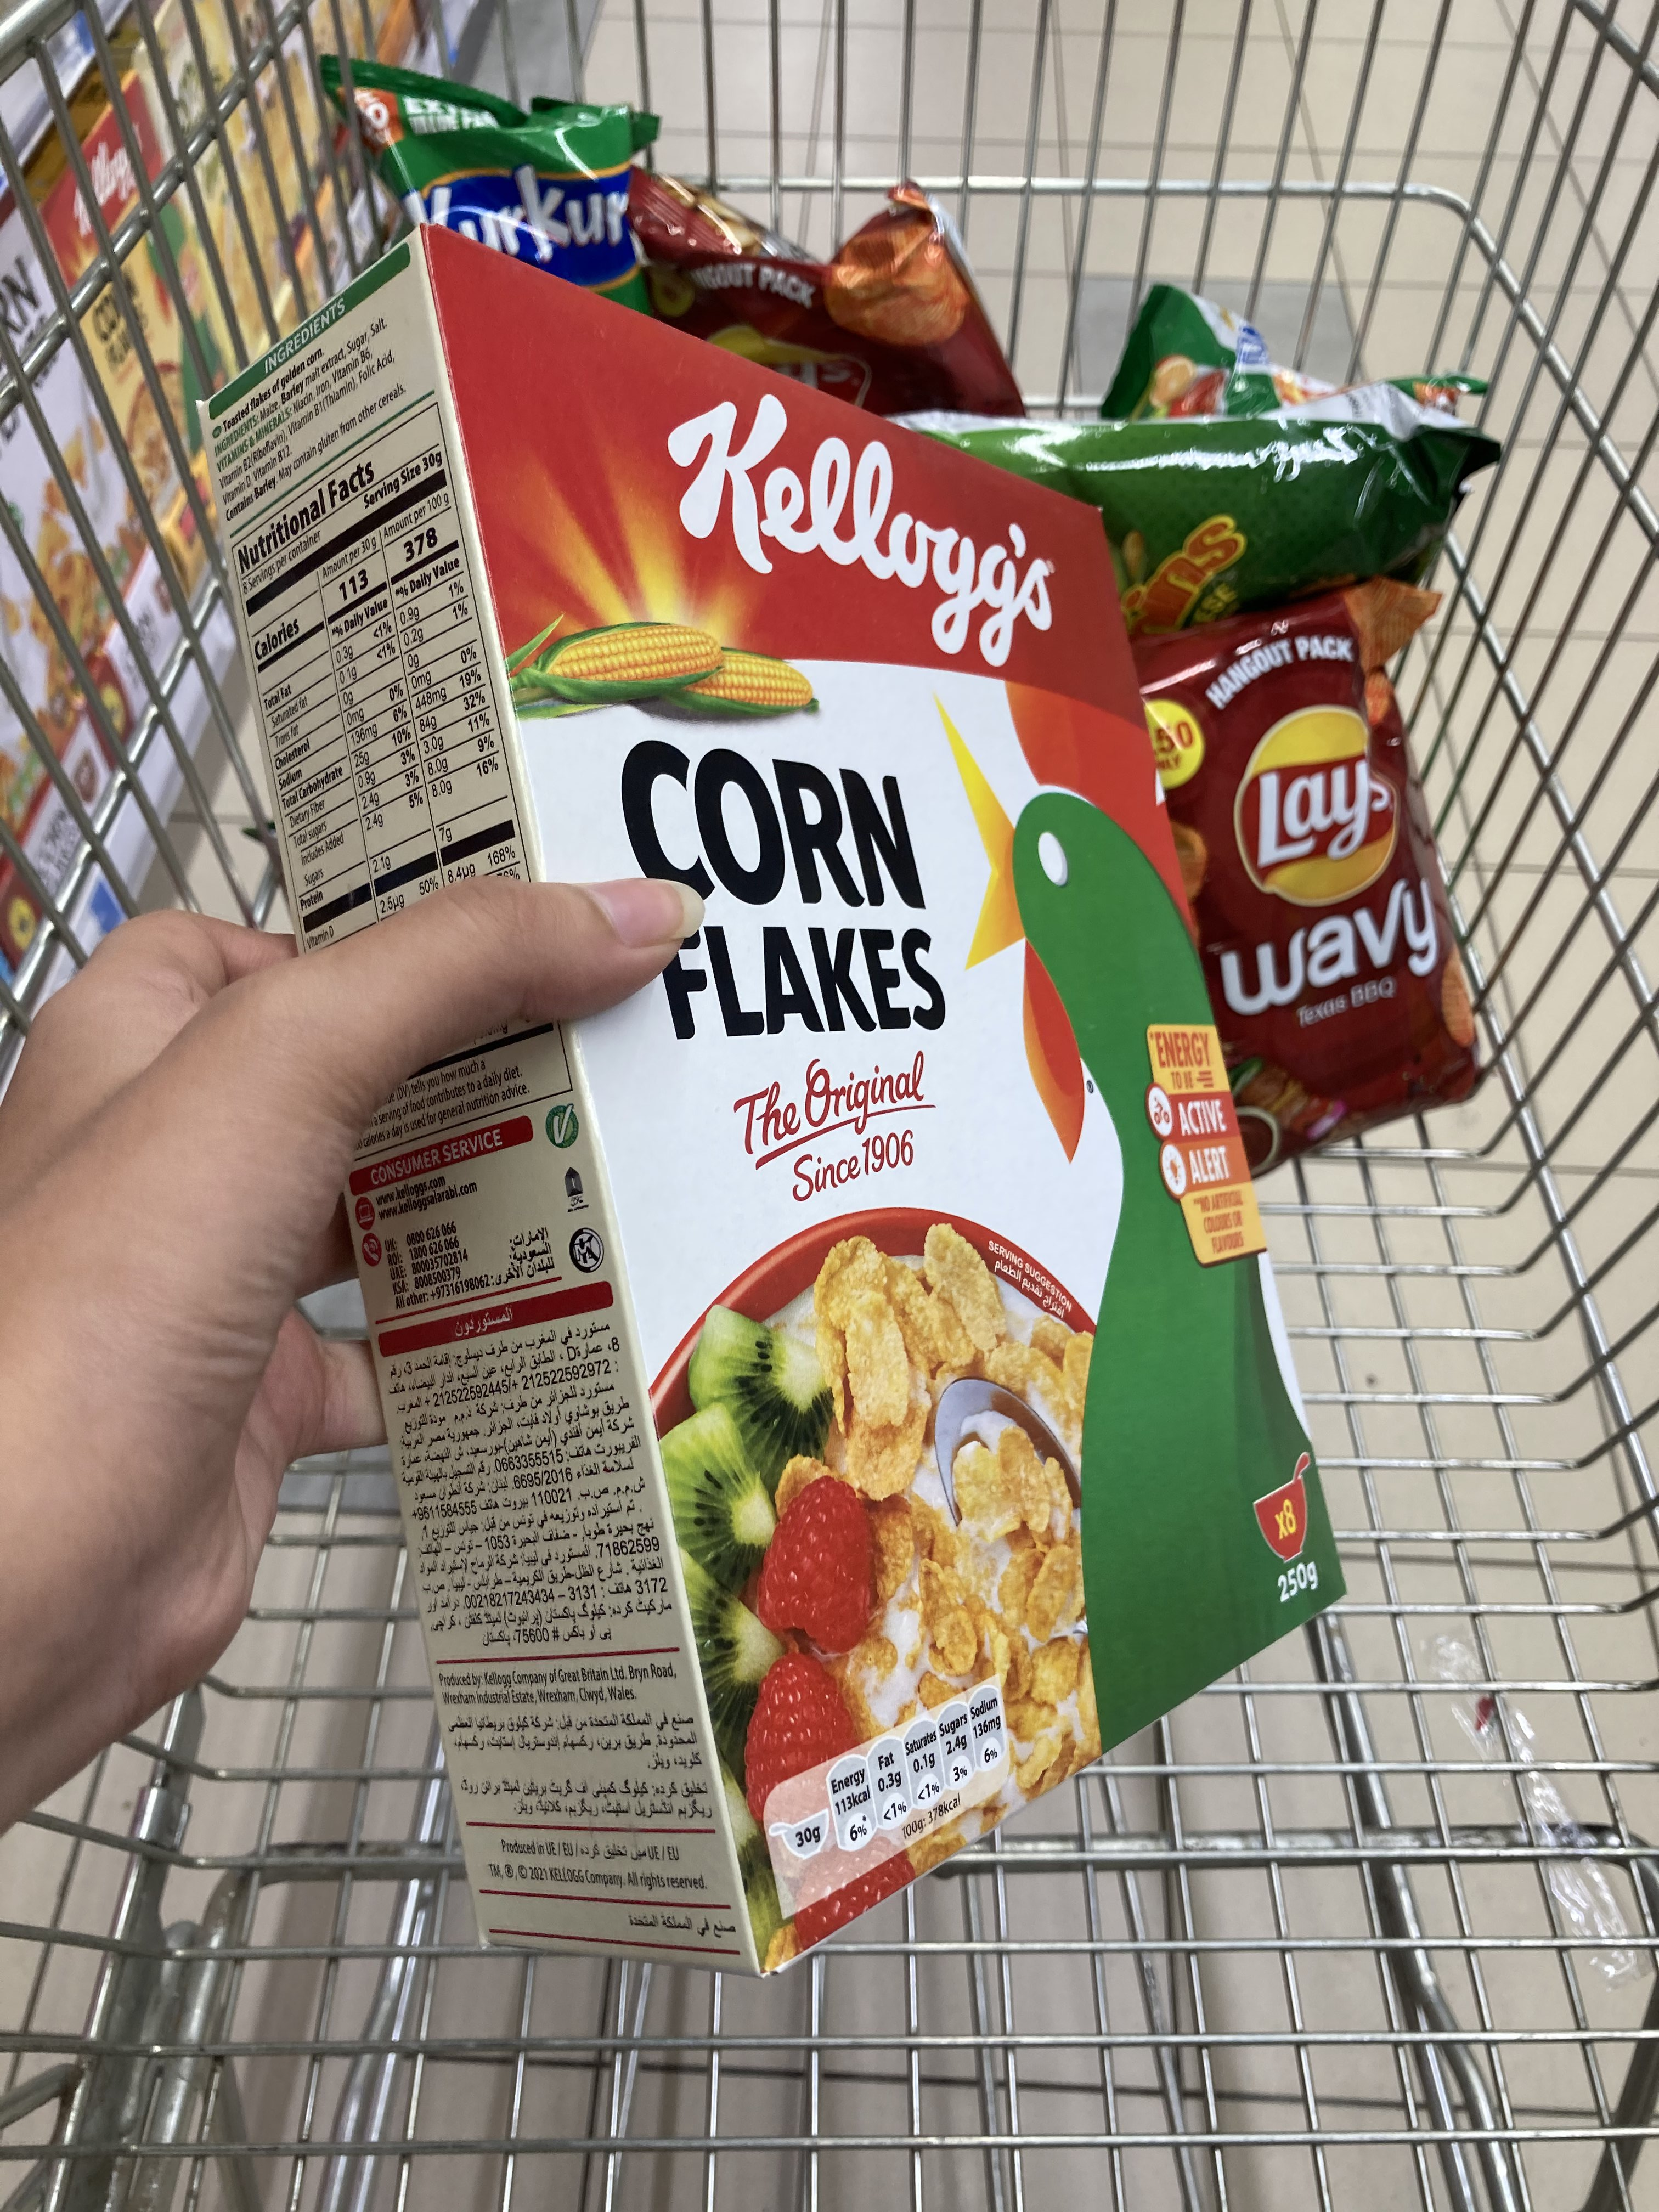Kellogg's Corn Flakes: (204, 232, 1352, 1973)
